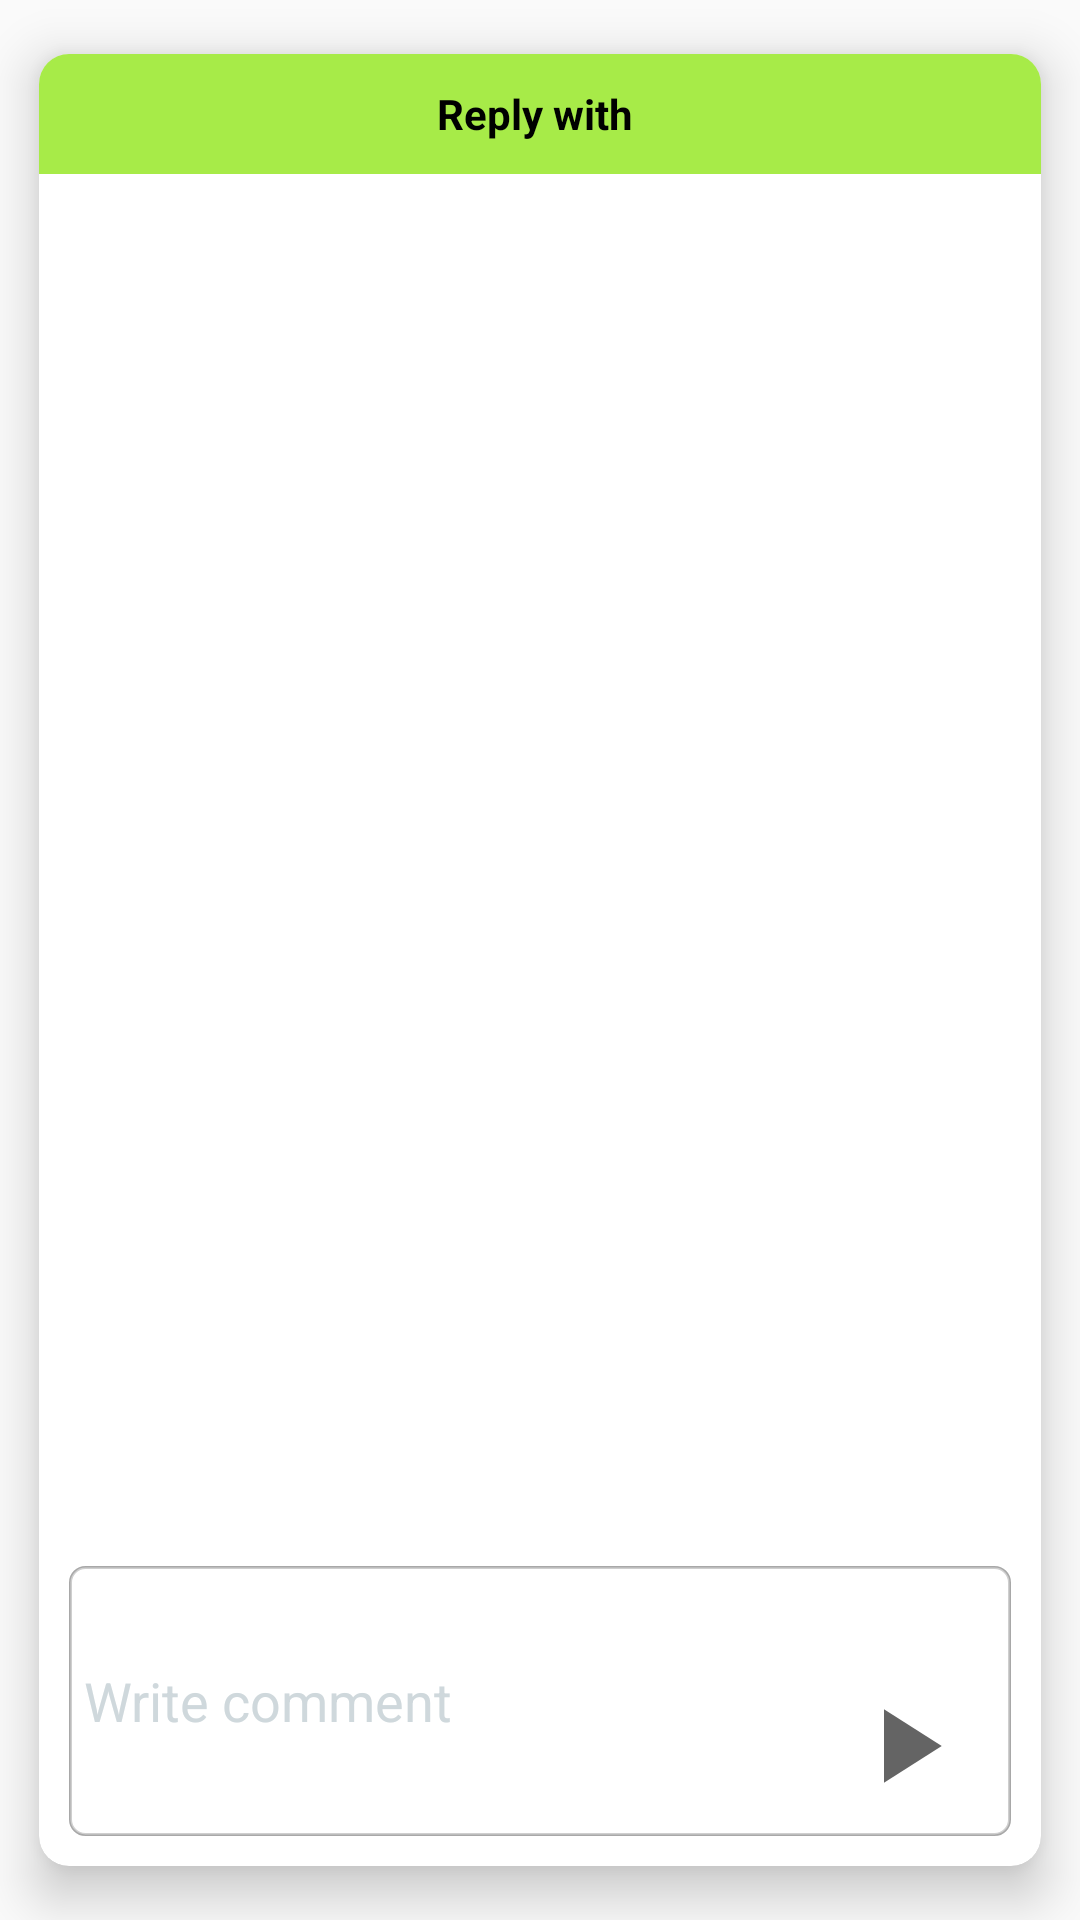

Icons on this 1080×1920 Android screen, each with its box as (x1, y1, x2, y2):
send msg: (884, 1709, 942, 1783)
